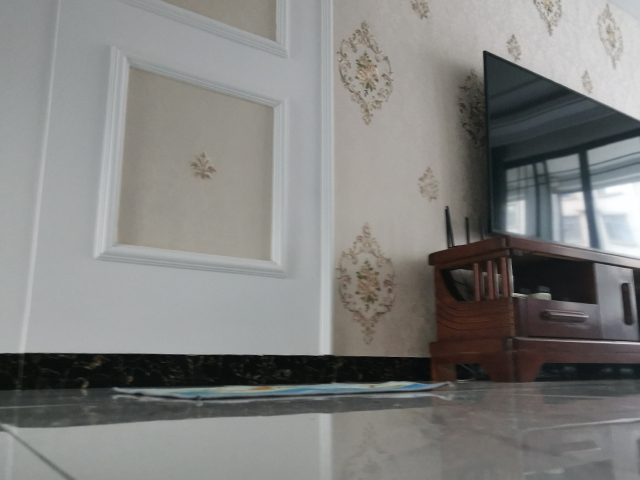cabinet: (426, 234, 640, 384)
carpet: (111, 379, 455, 403)
